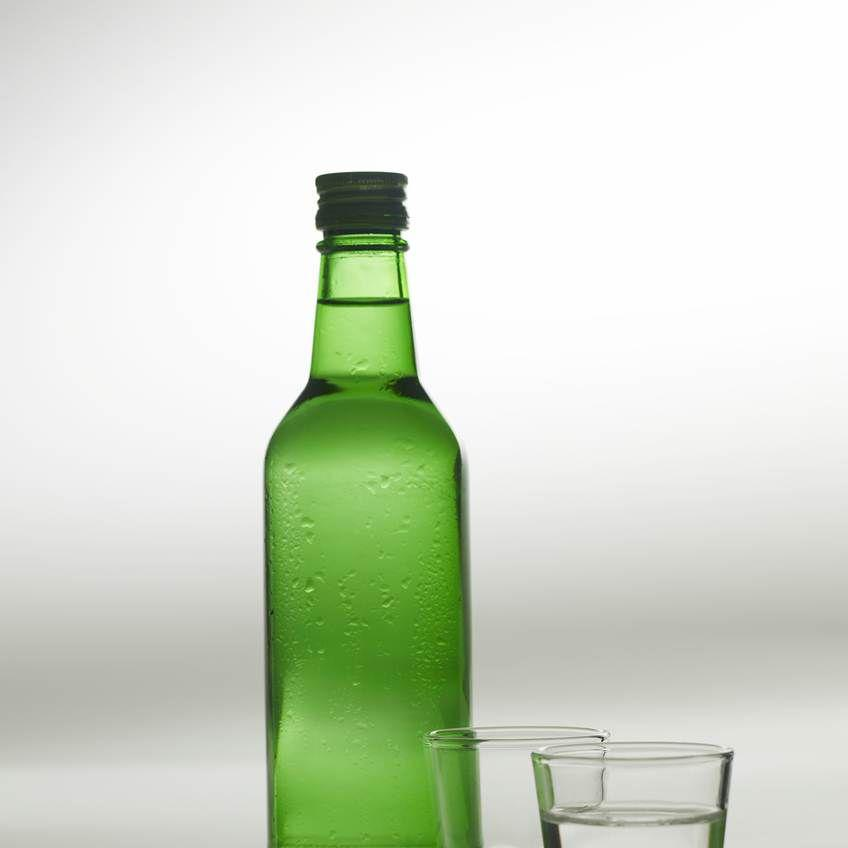soju: (258, 161, 490, 847)
